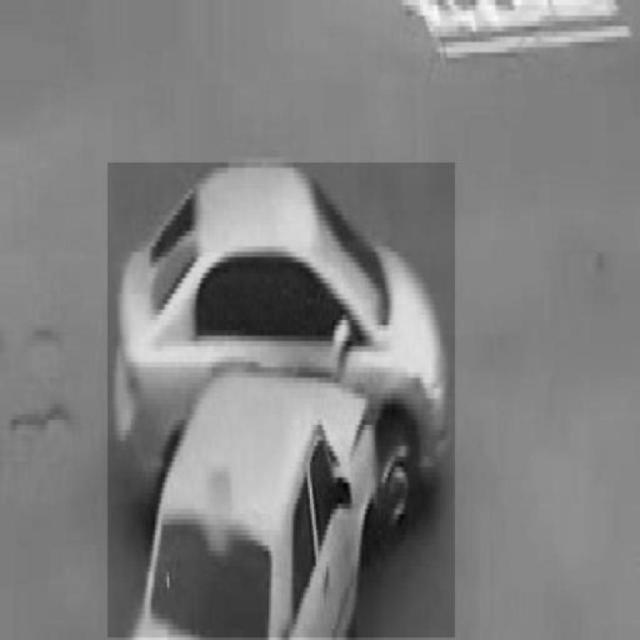accident: (108, 162, 455, 636)
